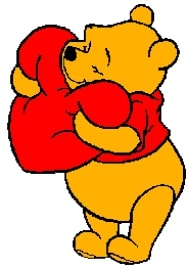Winnie: (54, 4, 184, 129)
